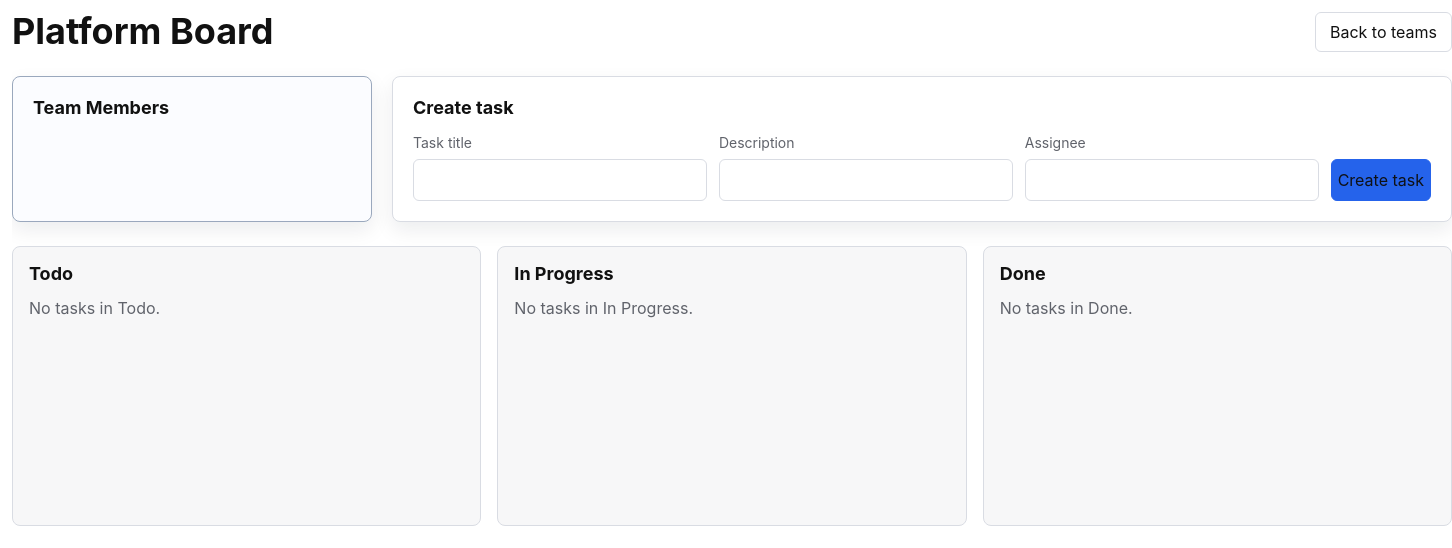
Test: a team member can move a task with explicit status controls
The image size is (1452, 548).
Step 1. Type "Move board cards" into the field labelled "Task title" → (560, 180), box [413, 159, 707, 201]
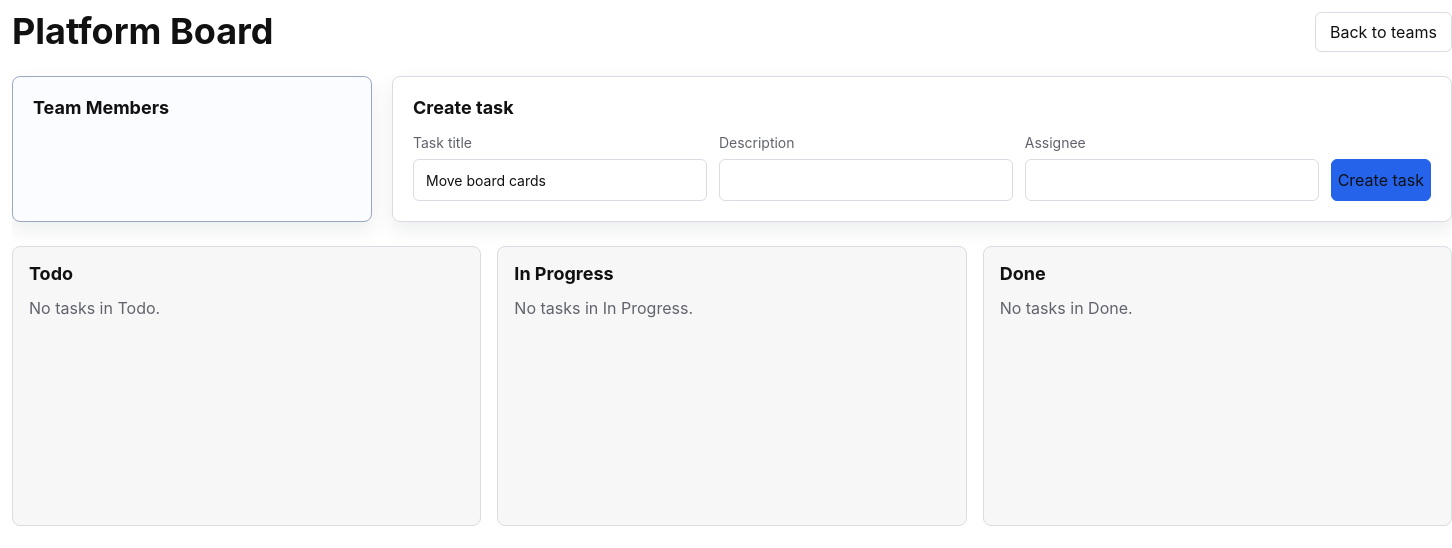
Step 2. Click the button "Create task" → (1381, 180), box [1331, 159, 1431, 201]
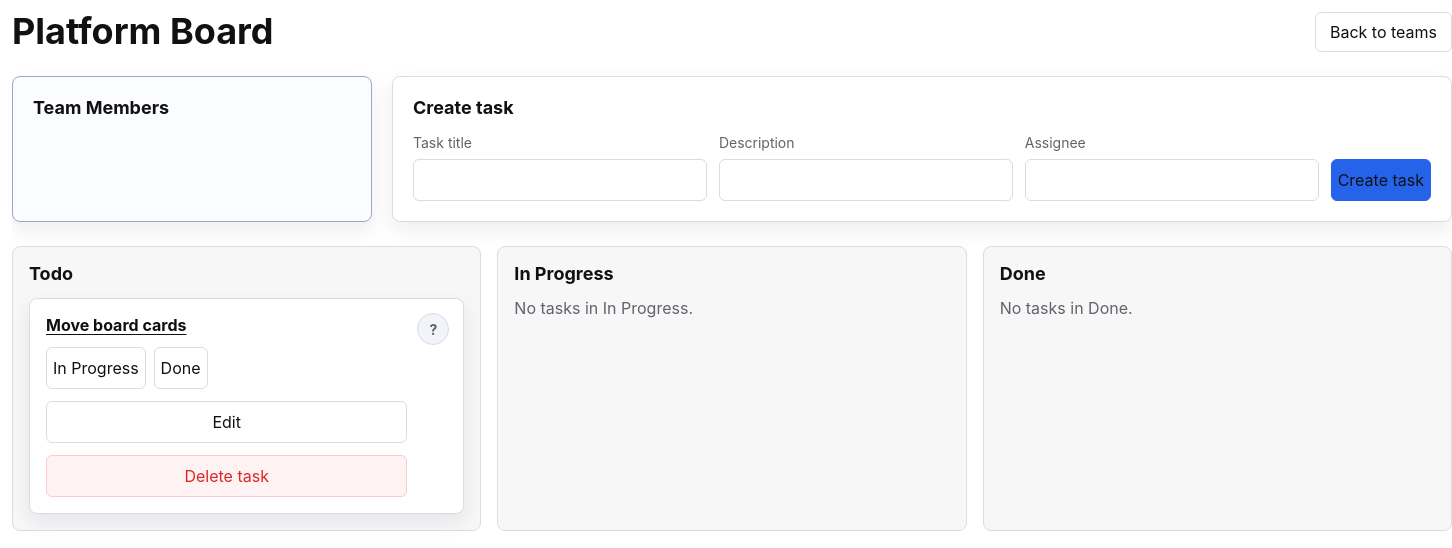
Step 3. Click the button with aria-label "Move Move board cards to In Progress" → (96, 368), box [46, 347, 146, 389]
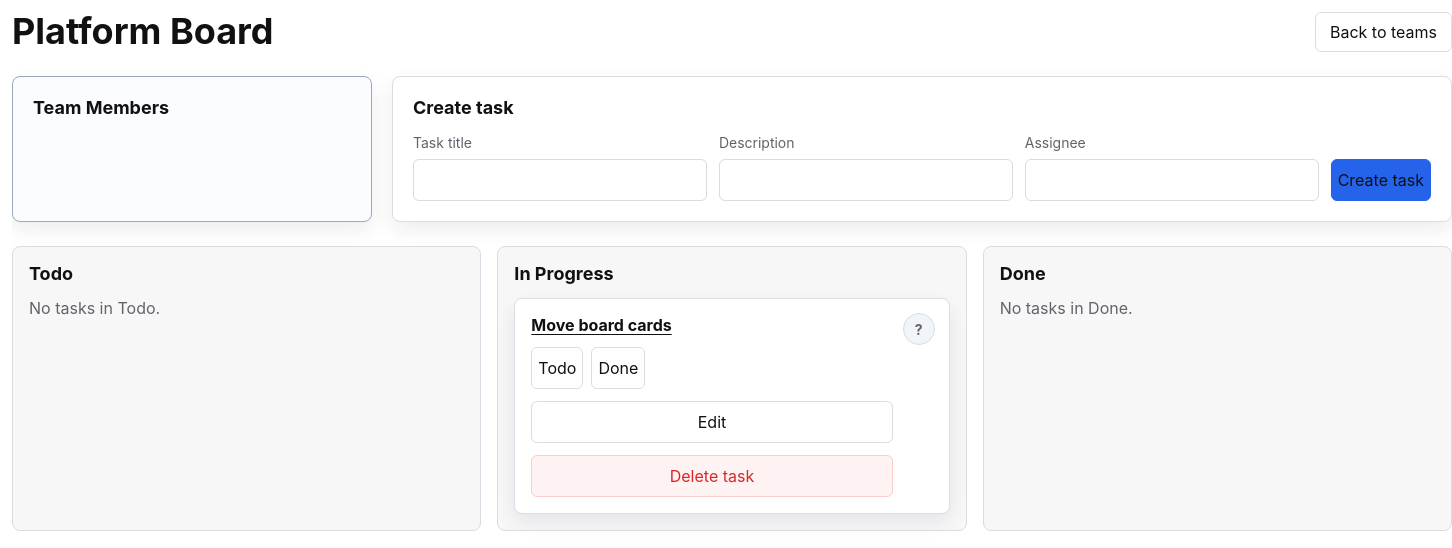
Check: the text "No tasks in Todo." is shown, box [29, 298, 160, 318]
Check: the text "No tasks in In Progress." is gone
